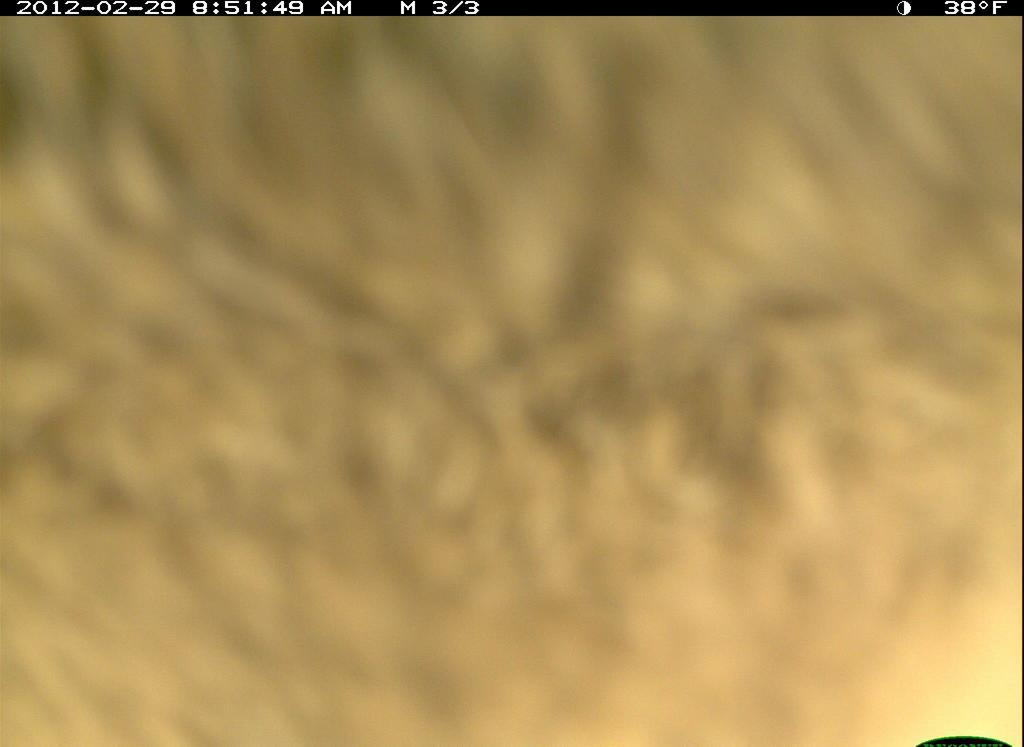coyote: (1, 17, 1023, 745)
